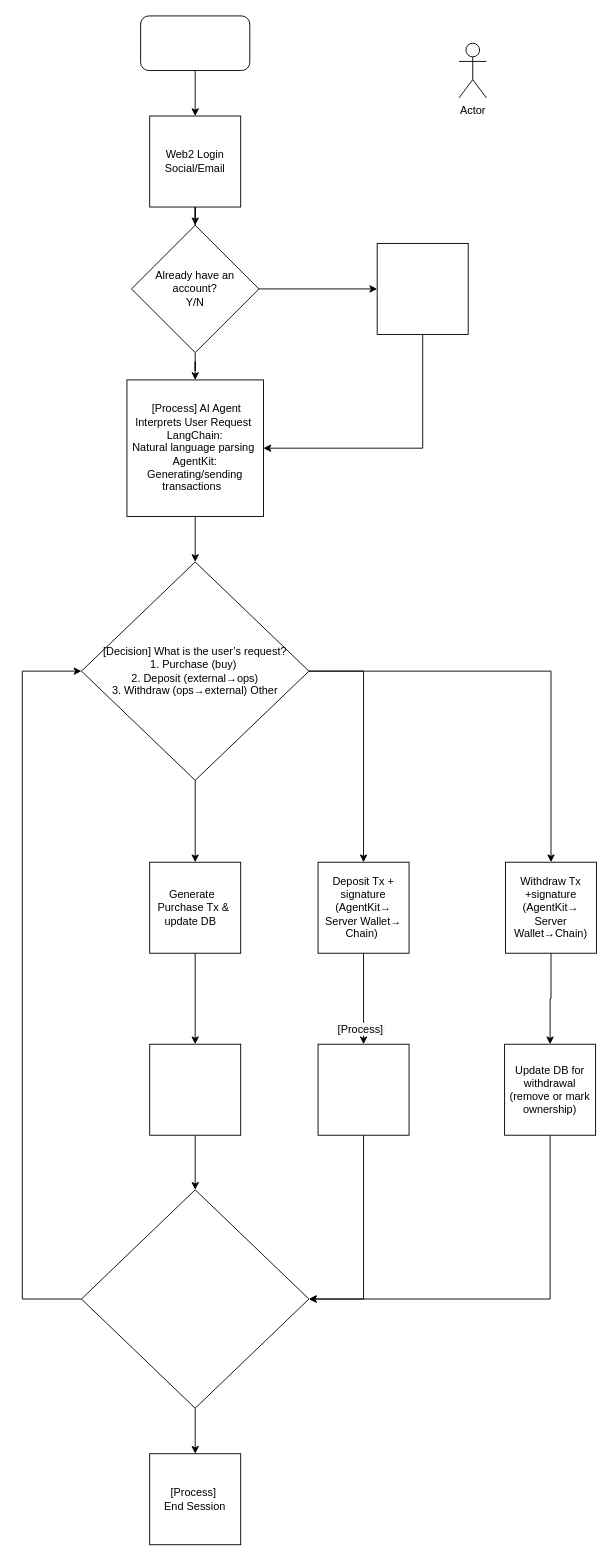
The diagram is 612 pixels wide and 1561 high, and some of its shapes have lost their labels. The shapes that lost their labels are listed below. From the top down, each one's box as (x1, y1, x2, y2) in pixels, then its label:
(140, 15, 250, 71): Start Web2 login
(376, 243, 468, 334): Create New Account Create new wallet in DB
(149, 1043, 241, 1135): Update DB/ marketplace (ownership, logs, etc.)
(317, 1043, 409, 1135): Update DB for deposit (reflect user’s holdings in ops wallet)
(81, 1189, 309, 1408): [Decision] More user actions/commands?
